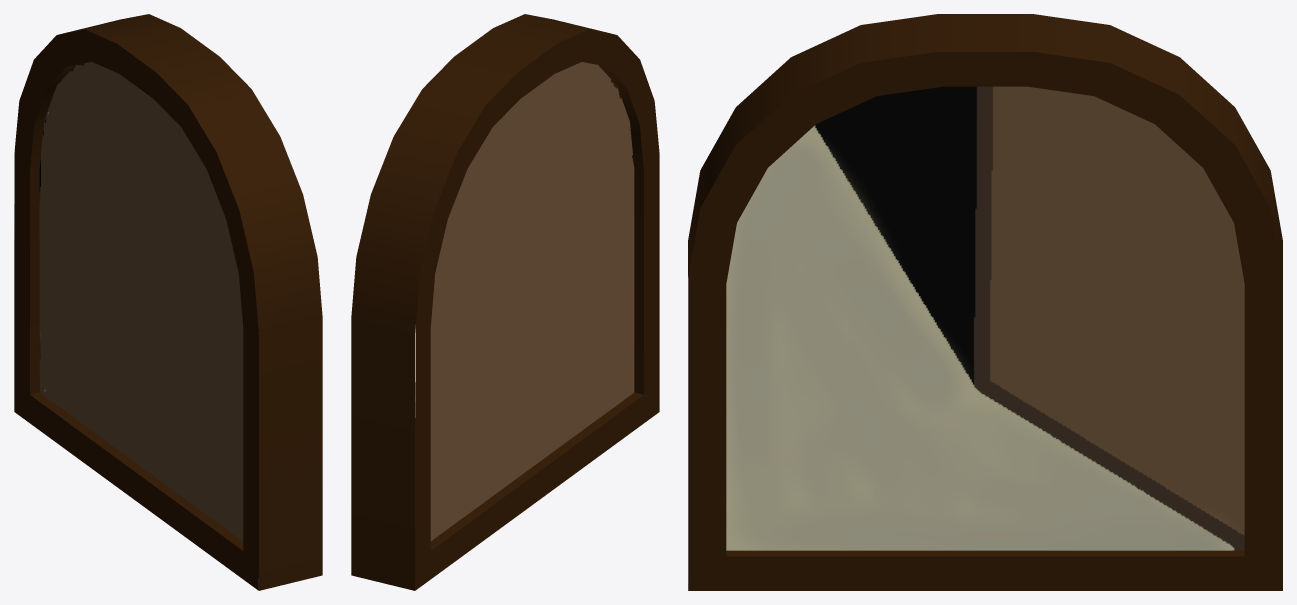
File: Door_open.obj
3 renders of one model, left to right at view 1: azimuth 30°, elevation 25°; view 2: azimuth 150°, elevation 25°; view 3: azimuth 270°, elevation 25°, orthographic. The views are drawn at different scales.
Parts seen in each view (by area): view 1: Door_open; view 2: Door_open; view 3: Door_open.
Part boxes in pixels (<box>): Door_open: <box>14,14,322,590</box>; Door_open: <box>351,14,659,590</box>; Door_open: <box>688,14,1282,590</box>.
Size of the model in its own units: 0.2921 by 1.94 by 1.94.
Materials: 1 (1 with a texture image).
